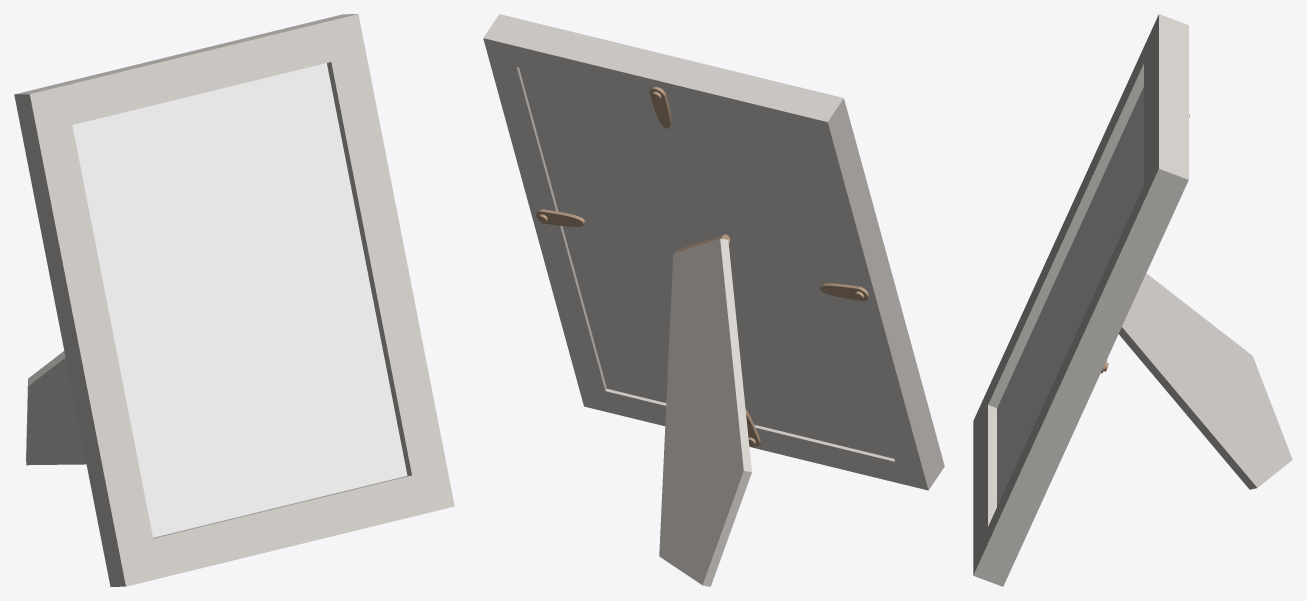
File: フォトスタンド.fbx
The picture shows the model from 3 angles, left to right: view 1: azimuth 30°, elevation 25°; view 2: azimuth 150°, elevation 25°; view 3: azimuth 270°, elevation 25°; orthographic projection. The views are drawn at different scales.
Visible parts, largest first — view 1: Body; view 2: Body; view 3: Body.
Boxes of the visible parts, left/top/right/bottom form: Body: left=14, top=14, right=454, bottom=586; Body: left=483, top=14, right=944, bottom=586; Body: left=973, top=14, right=1292, bottom=586.
Size of the model in its own units: 11.3 by 14.26 by 9.86.
